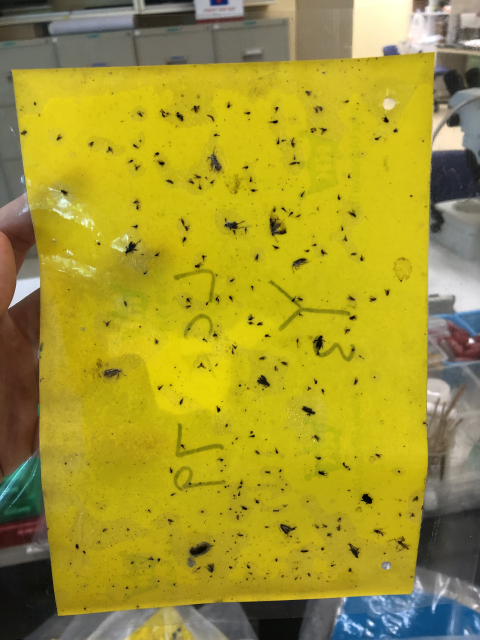DBM: (203, 143, 225, 175), (100, 365, 129, 384), (278, 521, 296, 538)
